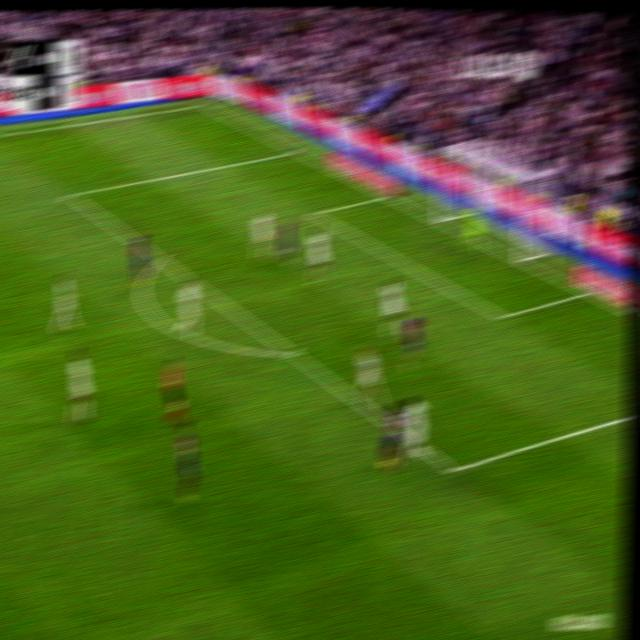bigarea_bottom_inner: (442, 453, 464, 485)
bigarea_top_inner: (61, 184, 80, 204)
bigarea_top_outter: (288, 142, 303, 156)
bottom_arc_area_intersection: (282, 340, 302, 363)
corner: (195, 98, 212, 110)
smallarea_bottom_inner: (493, 305, 510, 327)
smallarea_top_inner: (306, 202, 323, 222)
top_arc_area_intersection: (152, 249, 169, 267)
